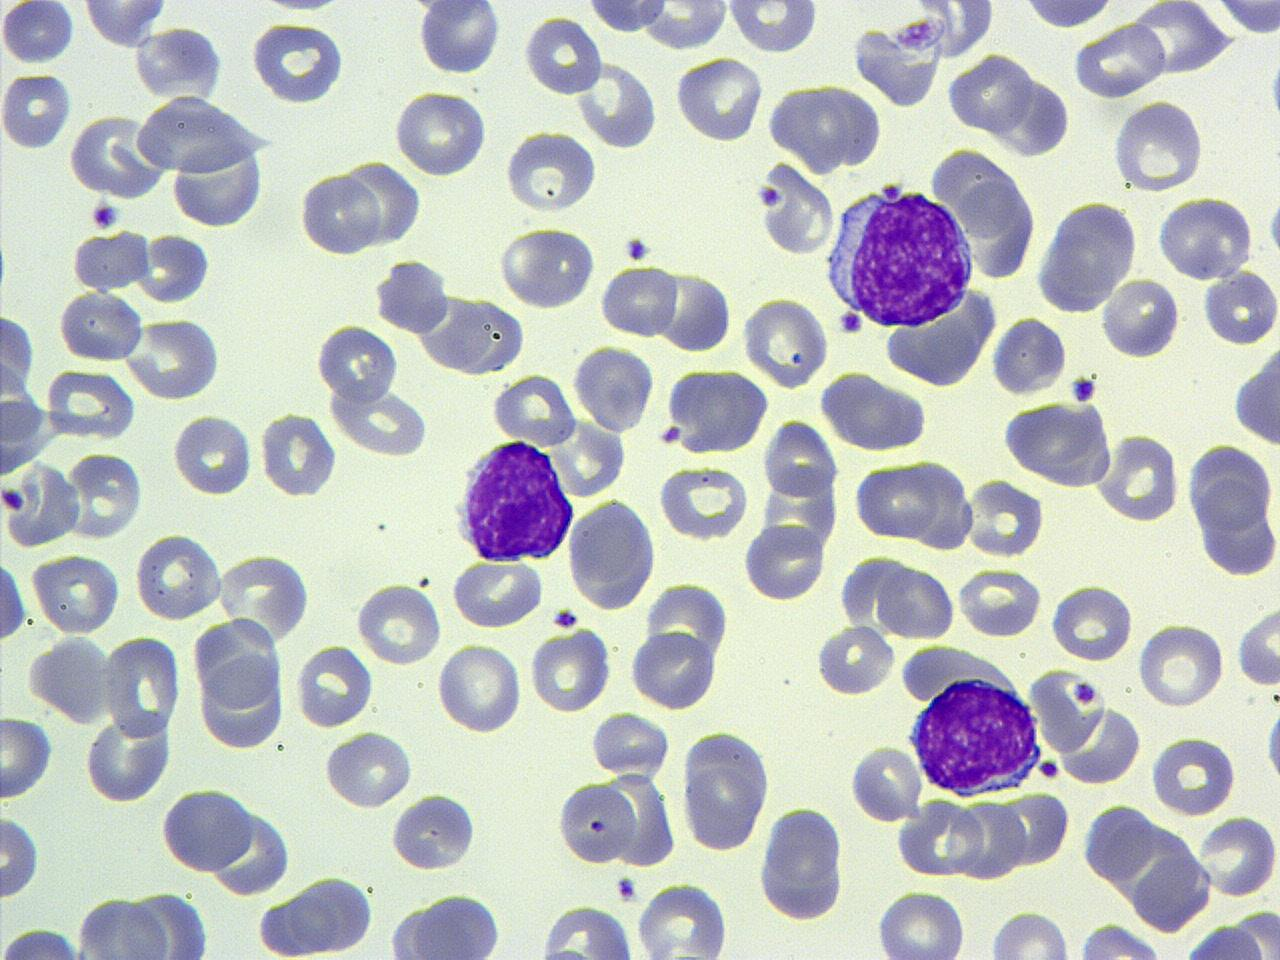Platelets: (370, 257, 452, 334), (70, 231, 150, 291), (1263, 708, 1280, 788), (89, 199, 121, 231), (1, 228, 15, 300), (1265, 195, 1280, 262), (1068, 374, 1098, 404), (836, 309, 864, 337), (623, 234, 650, 262), (614, 872, 638, 902), (1269, 58, 1280, 123), (2, 486, 26, 514), (550, 608, 580, 630), (1072, 678, 1098, 703), (758, 184, 780, 210), (660, 424, 686, 445), (1038, 760, 1060, 780)
RBC: (1034, 198, 1140, 316), (679, 729, 772, 852), (756, 803, 848, 924), (1000, 397, 1117, 488), (566, 496, 658, 610), (165, 130, 268, 229), (854, 7, 948, 111), (661, 367, 771, 453), (215, 550, 313, 646), (1109, 98, 1207, 194), (194, 652, 288, 752), (818, 370, 928, 452), (390, 89, 490, 178), (66, 113, 168, 200), (434, 640, 526, 736), (386, 886, 505, 960), (1154, 194, 1254, 282), (82, 709, 175, 803), (740, 293, 830, 390), (123, 314, 223, 401), (496, 224, 597, 309), (191, 616, 281, 711), (101, 633, 182, 738), (1135, 618, 1227, 710), (132, 530, 222, 624), (248, 20, 346, 106), (159, 785, 253, 874), (328, 380, 431, 460), (961, 177, 1040, 281), (277, 876, 379, 956), (1185, 441, 1273, 533), (504, 128, 598, 214), (1197, 482, 1279, 580), (674, 56, 764, 145), (756, 158, 836, 258), (29, 550, 122, 636), (572, 58, 659, 149), (570, 342, 656, 434), (1050, 704, 1144, 788), (1096, 431, 1180, 525), (353, 580, 444, 666), (1073, 19, 1169, 100), (656, 461, 752, 542), (62, 448, 146, 540), (1027, 662, 1109, 756), (320, 729, 414, 811), (635, 880, 729, 960), (946, 50, 1033, 136), (630, 626, 718, 711), (0, 457, 82, 548), (44, 365, 138, 443), (313, 320, 399, 405), (169, 411, 253, 498), (256, 410, 339, 498), (1148, 733, 1236, 816), (388, 792, 479, 872), (852, 459, 939, 542), (1048, 580, 1136, 662), (300, 168, 380, 258), (529, 627, 611, 714), (343, 157, 423, 246), (1197, 811, 1277, 899), (523, 12, 603, 99), (131, 27, 225, 101), (450, 556, 544, 630), (556, 778, 634, 867), (988, 314, 1071, 397), (962, 476, 1045, 559), (742, 519, 824, 603), (294, 642, 373, 729), (897, 800, 985, 878), (656, 268, 734, 356), (902, 457, 974, 552), (448, 293, 528, 378), (762, 413, 839, 501), (955, 564, 1043, 640), (874, 888, 969, 958), (1102, 276, 1180, 360), (57, 287, 144, 362), (416, 1, 502, 76), (1081, 796, 1155, 883), (952, 794, 1026, 881), (598, 260, 680, 338), (1202, 265, 1278, 348), (766, 83, 840, 168), (878, 564, 957, 643), (846, 742, 922, 824), (492, 373, 576, 446), (814, 623, 896, 697), (532, 902, 636, 960), (998, 788, 1070, 870), (1, 69, 73, 151), (136, 230, 211, 304), (590, 710, 668, 779), (909, 0, 997, 61), (724, 0, 820, 55), (0, 712, 56, 804), (1, 0, 75, 68), (68, 230, 149, 291), (638, 0, 730, 51), (988, 907, 1073, 959), (79, 0, 171, 48), (0, 810, 42, 900), (1236, 604, 1280, 689), (1074, 922, 1164, 959), (1018, 0, 1121, 32), (1180, 923, 1268, 960), (0, 924, 86, 960), (0, 309, 36, 394), (0, 553, 28, 647), (1211, 0, 1279, 35)
WBC: (822, 179, 978, 332), (904, 644, 1050, 803), (141, 95, 276, 228), (455, 436, 578, 564), (758, 799, 850, 927), (1036, 199, 1140, 311), (567, 492, 661, 613), (1004, 398, 1115, 488), (194, 649, 290, 752), (262, 873, 378, 958), (662, 365, 771, 454), (162, 786, 260, 881), (82, 712, 176, 806), (385, 890, 510, 960), (822, 372, 930, 451), (658, 466, 755, 547), (576, 59, 662, 149), (325, 728, 416, 812), (132, 25, 224, 102), (990, 312, 1068, 398), (373, 256, 452, 338), (535, 901, 636, 960), (1230, 335, 1280, 451), (1174, 921, 1272, 959), (1011, 0, 1123, 30), (581, 0, 674, 36)
